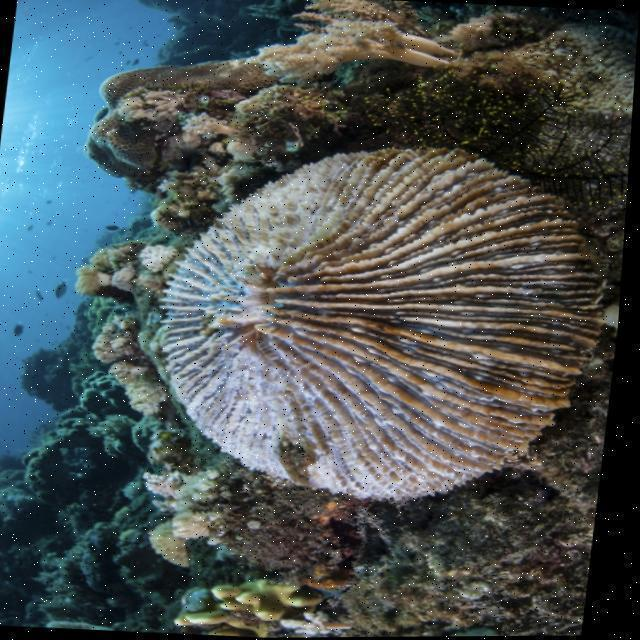Healthy Coral: (132, 124, 632, 533)
